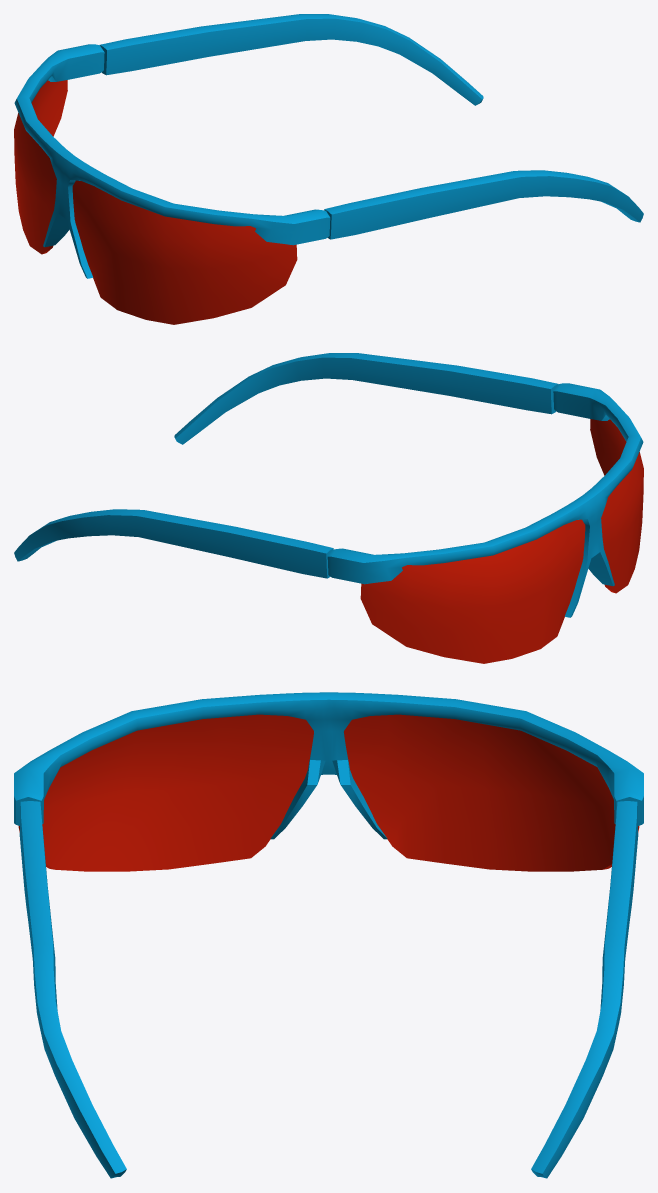
The model's file is model_ppe_goggles.fbx.
The picture shows the model from 3 angles, top to bottom: view 1: azimuth 30°, elevation 25°; view 2: azimuth 150°, elevation 25°; view 3: azimuth 270°, elevation 25°; orthographic projection. The views are drawn at different scales.
Parts seen in each view (by area): view 1: ppe_goggles; view 2: ppe_goggles; view 3: ppe_goggles.
Part boxes in pixels (box(x1,y1,x2,y2)): ppe_goggles: box(14, 14, 643, 324); ppe_goggles: box(14, 353, 643, 663); ppe_goggles: box(14, 692, 643, 1178).
Bounding box in the file's own units: 16.63 × 4 × 13.58.
